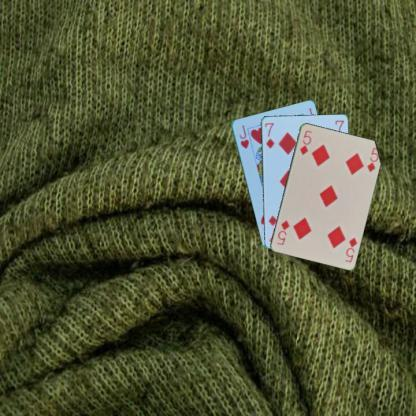5d: (342, 234, 358, 264), (297, 127, 313, 156)
7d: (262, 120, 276, 149)
Jh: (236, 122, 250, 150)
